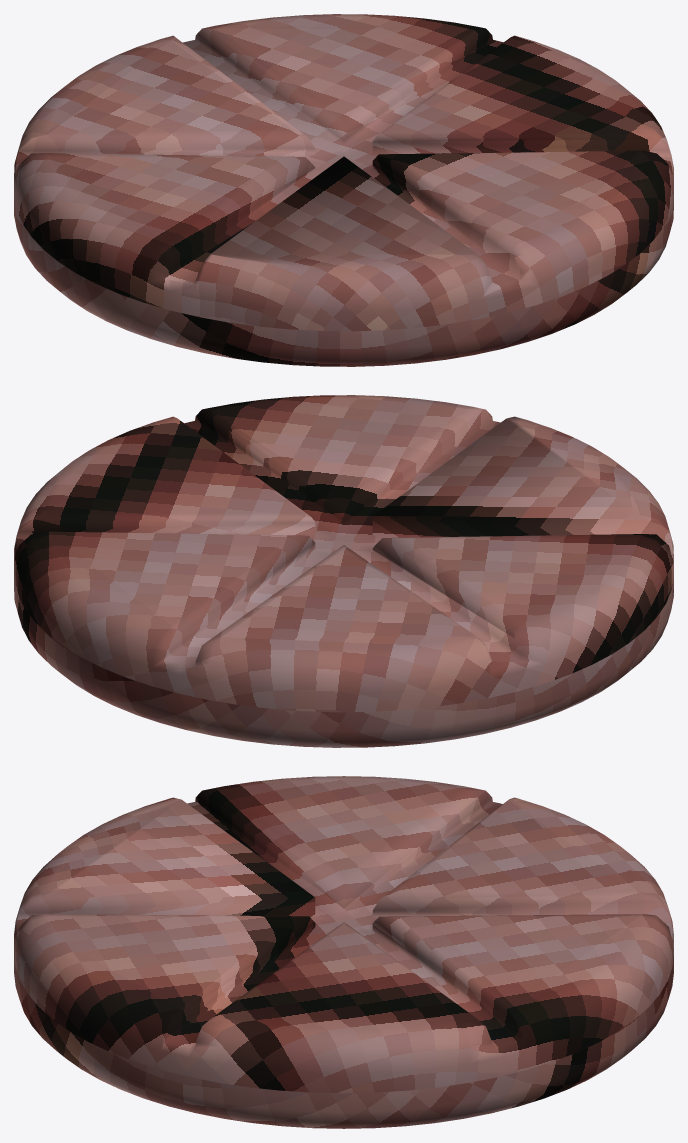
File: AL_ChocolateCalienteBar.fbx
The picture shows the model from 3 angles, top to bottom: view 1: azimuth 30°, elevation 25°; view 2: azimuth 150°, elevation 25°; view 3: azimuth 270°, elevation 25°; orthographic projection.
Visible parts, largest first — view 1: Cylinder; view 2: Cylinder; view 3: Cylinder.
Boxes of the visible parts, x1,y1,x2,y2 form: Cylinder: (14,14,673,366); Cylinder: (14,395,673,747); Cylinder: (14,776,673,1128).
Size of the model in its own units: 0.2452 by 0.0388 by 0.2452.
